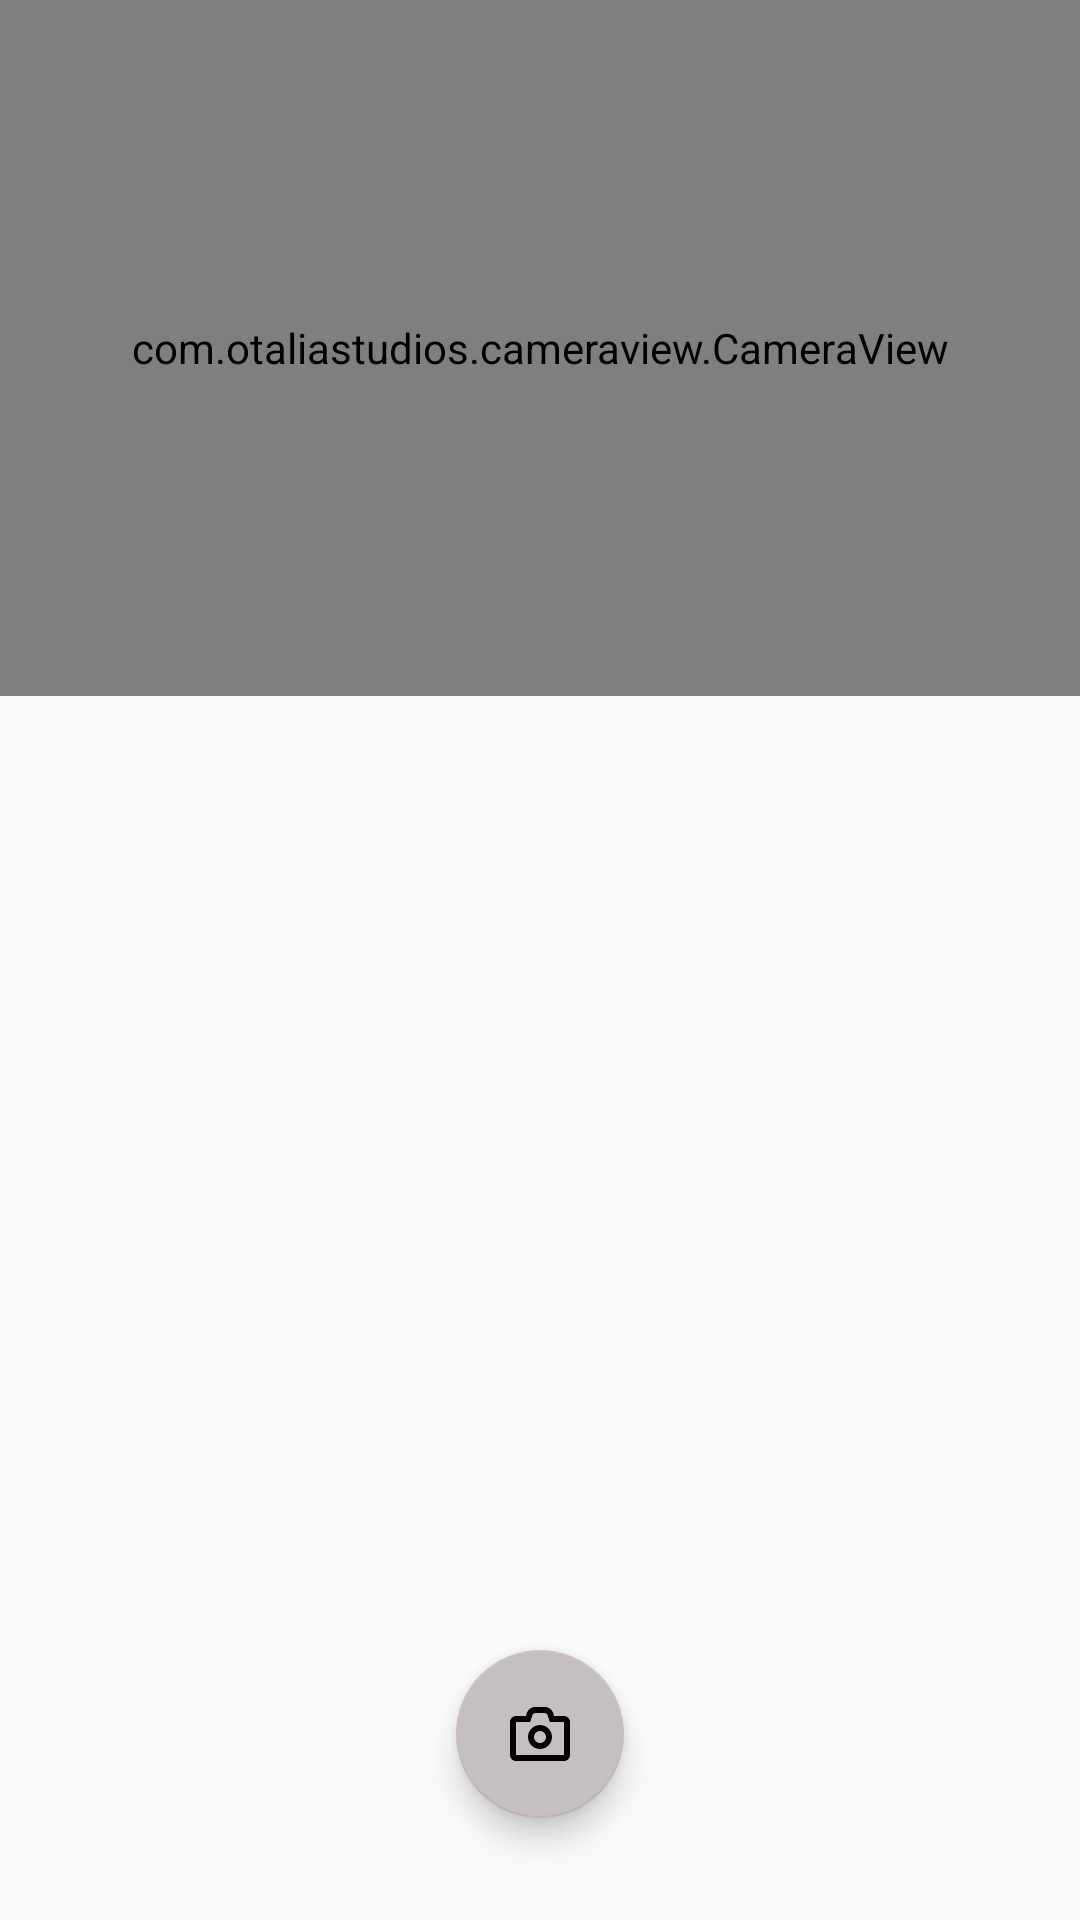

Icon bounding boxes for this 1080x1920 phone screenshot, format (x1, y1, x2, y2):
capture: (456, 1650, 624, 1835)
